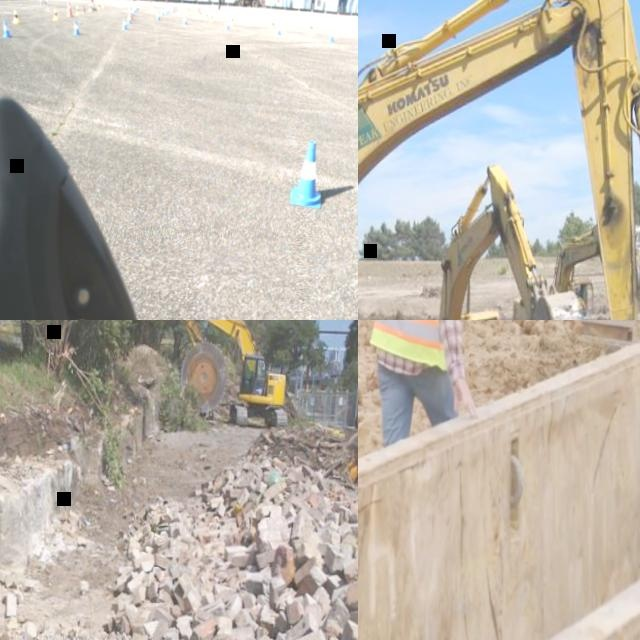Person: (370, 320, 484, 448)
Safety Cone: (290, 141, 321, 209), (1, 20, 12, 38), (72, 20, 81, 35), (66, 0, 73, 16), (12, 9, 19, 23), (328, 29, 334, 42), (121, 18, 127, 30), (52, 8, 58, 20), (275, 24, 281, 35), (129, 6, 133, 21), (126, 14, 132, 24), (307, 23, 313, 33), (224, 19, 229, 29), (269, 20, 274, 29), (182, 15, 186, 25), (75, 5, 79, 15), (156, 12, 160, 21), (87, 4, 91, 12), (96, 3, 100, 10), (209, 15, 213, 22), (229, 17, 232, 25), (161, 7, 164, 15), (131, 8, 134, 16), (204, 13, 207, 20), (165, 7, 168, 14), (101, 2, 104, 8), (199, 11, 202, 17), (156, 9, 158, 17), (133, 6, 135, 13), (167, 7, 169, 13), (171, 7, 173, 13), (173, 7, 175, 13), (175, 5, 177, 11), (187, 6, 189, 12), (135, 4, 137, 10), (194, 8, 196, 13), (197, 8, 198, 13)
machinery: (358, 0, 640, 320), (368, 163, 598, 320), (172, 320, 289, 430)
